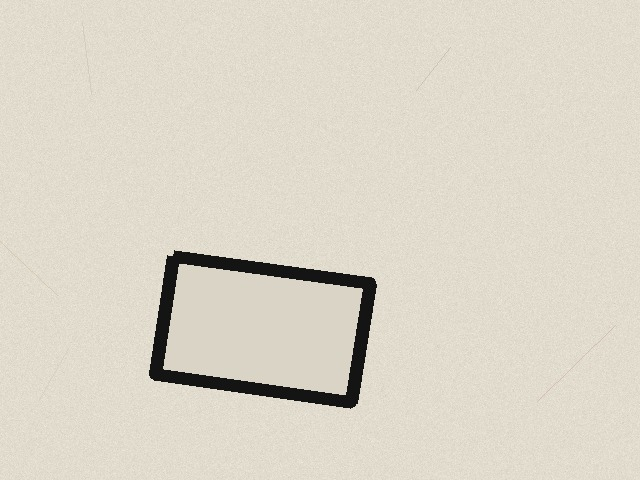parking_area: (155, 256, 370, 402)
